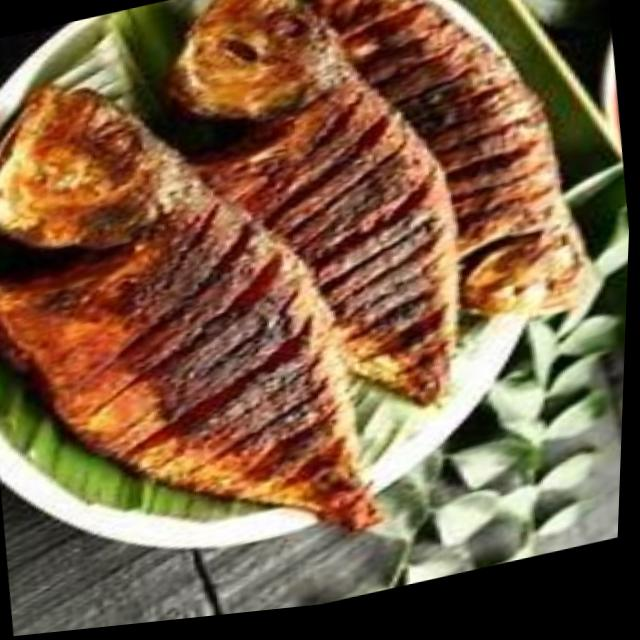FISH FRY: (0, 0, 590, 533)
